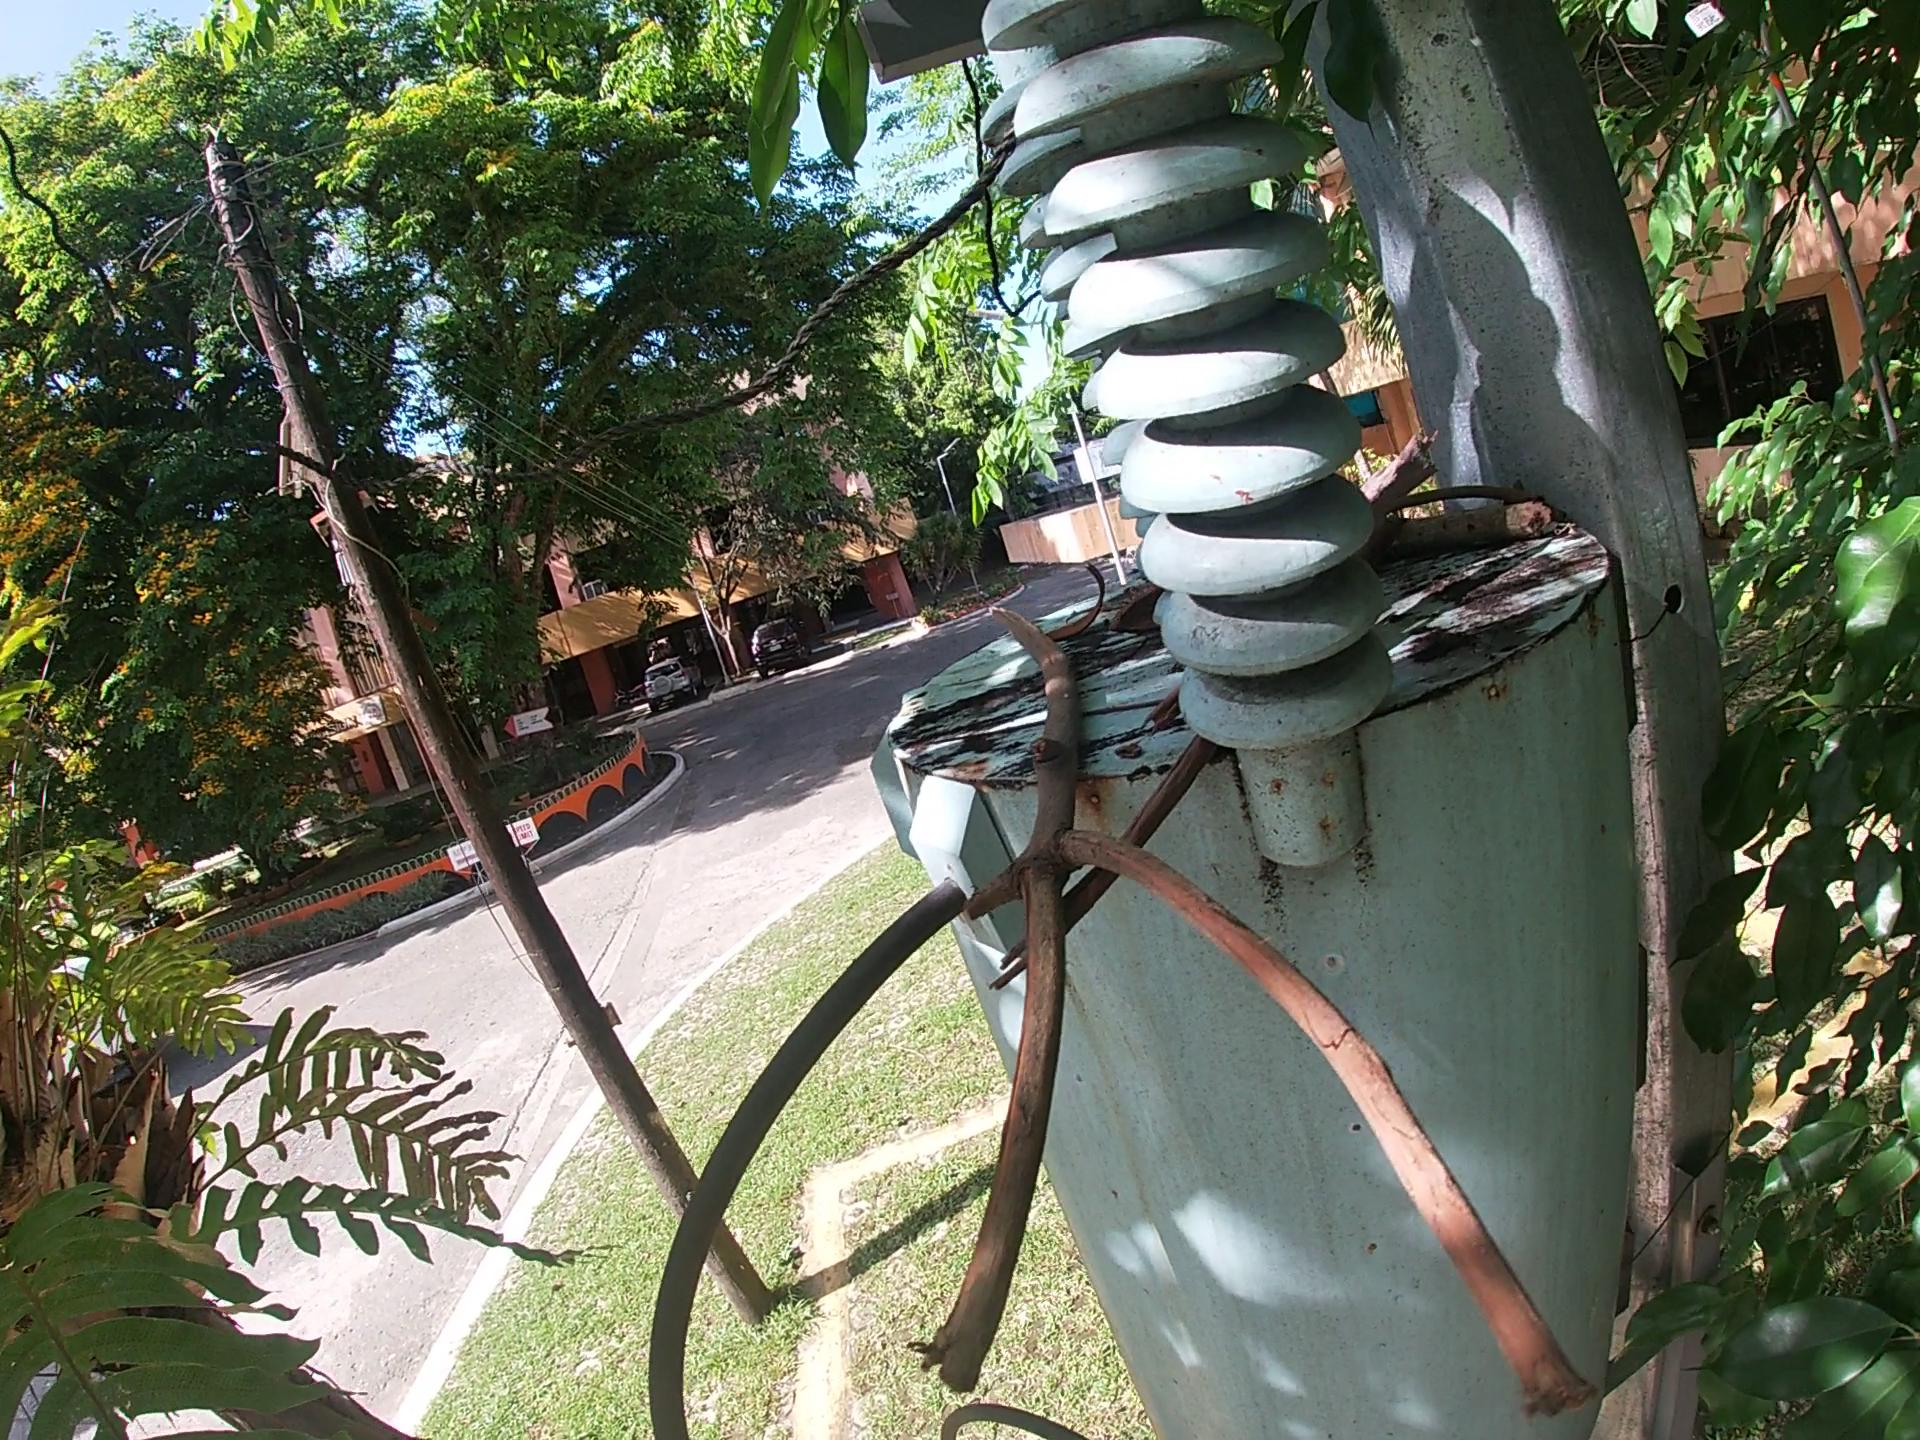mahogany fruit: (1046, 564, 1116, 647), (1110, 588, 1172, 650)
tree branch: (918, 597, 1599, 1432), (980, 691, 1237, 995), (1377, 483, 1563, 551), (1365, 427, 1438, 519)
